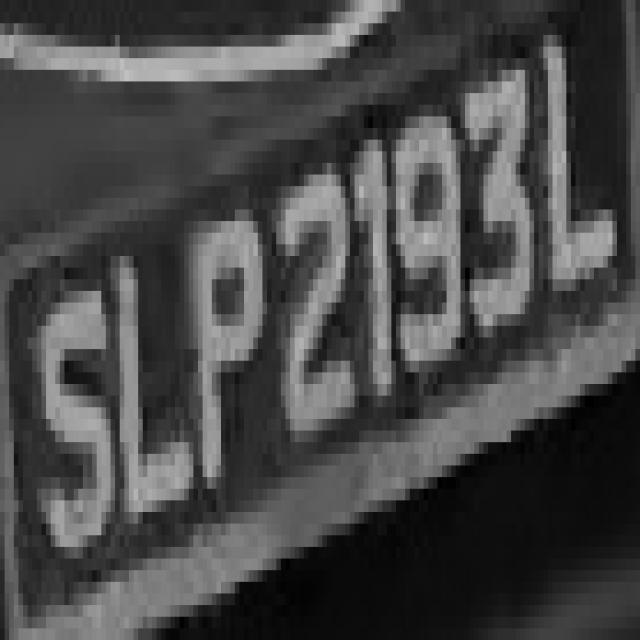1: (355, 128, 396, 489)
2: (272, 163, 354, 489)
3: (451, 70, 539, 361)
9: (382, 105, 470, 419)
L: (101, 244, 203, 558), (530, 35, 636, 302)
P: (180, 221, 267, 535)
S: (37, 244, 110, 582)
